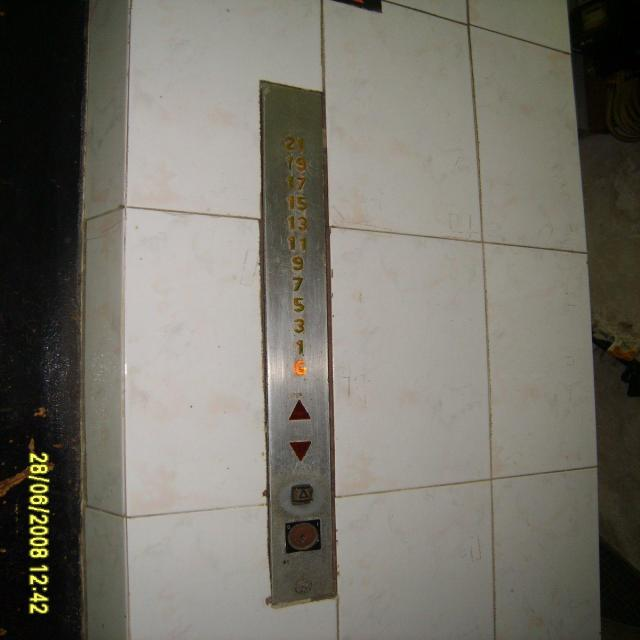down: (289, 441, 310, 461)
keyhole: (285, 519, 320, 553)
up: (290, 484, 314, 504), (288, 399, 310, 420)
